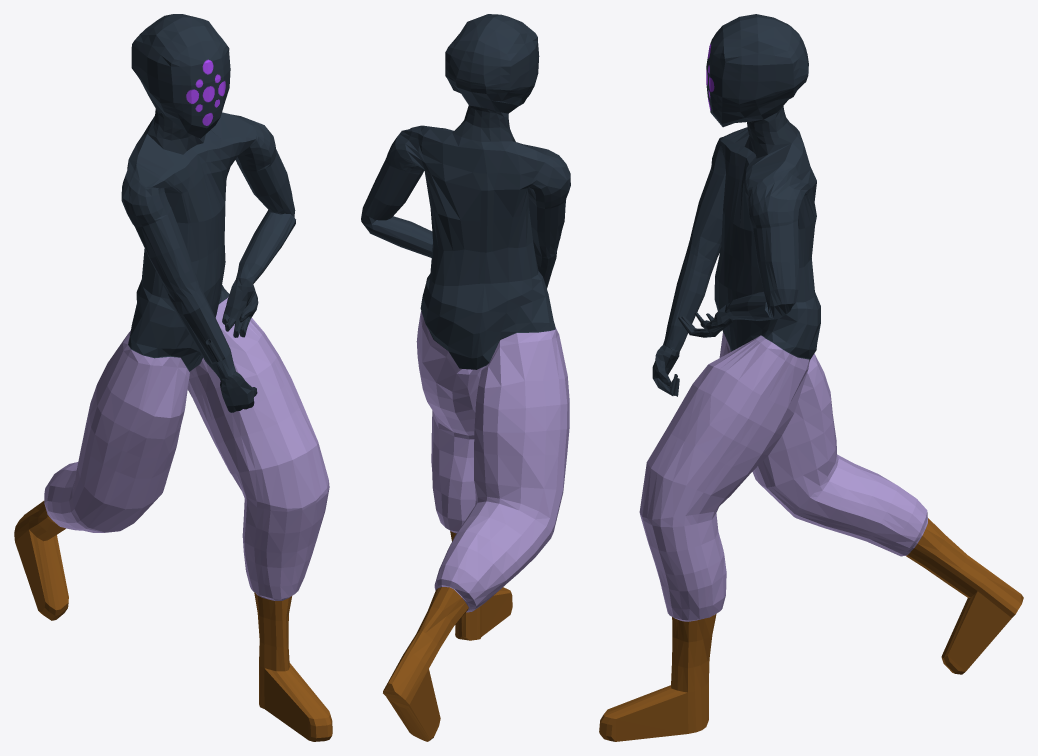
Rendered from Oracle_Run_000026.obj.
3 views of the same model, side by side, from view 1: azimuth 30°, elevation 25°; view 2: azimuth 150°, elevation 25°; view 3: azimuth 270°, elevation 25° (orthographic). The views are drawn at different scales.
Visible parts, largest first — view 1: Cube; view 2: Cube; view 3: Cube.
Boxes of the visible parts, x1=… form: Cube: x1=14, y1=14, x2=332, y2=741; Cube: x1=361, y1=14, x2=570, y2=741; Cube: x1=599, y1=14, x2=1023, y2=741.
Size of the model in its own units: 1.19 by 3.76 by 2.1.
